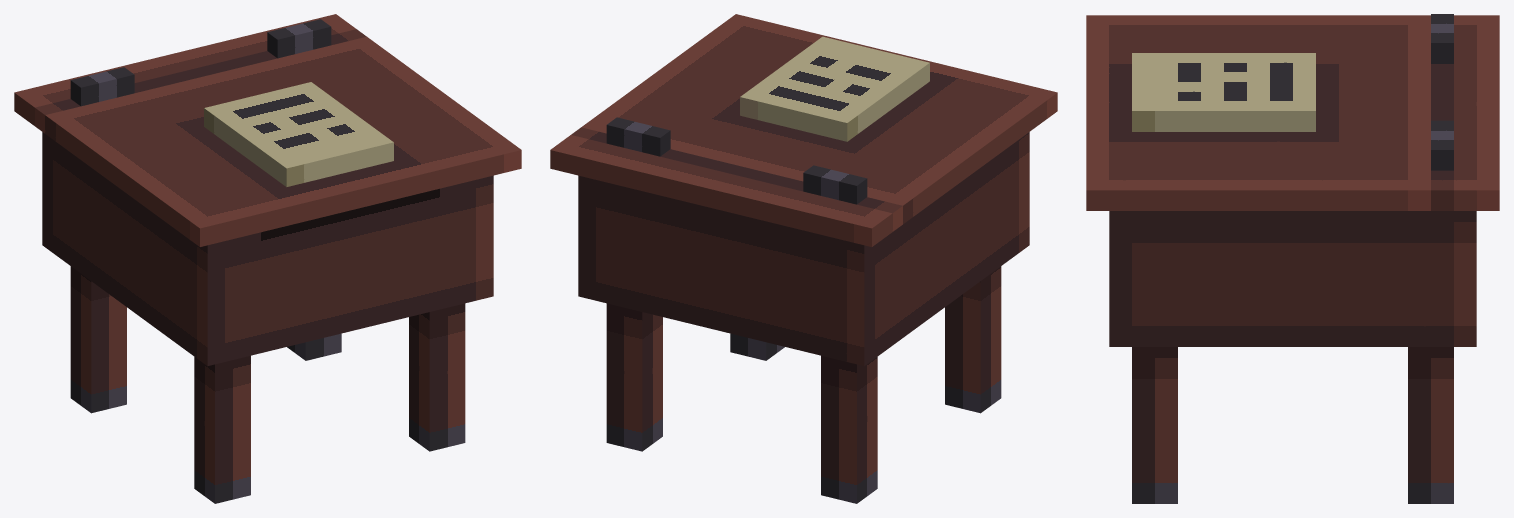
The model's file is student_deskao.fezao.glb.
The picture shows the model from 3 angles, left to right: view 1: azimuth 30°, elevation 25°; view 2: azimuth 150°, elevation 25°; view 3: azimuth 270°, elevation 25°; orthographic projection. The views are drawn at different scales.
Visible parts, largest first — view 1: STUDENT_DESKAO; view 2: STUDENT_DESKAO; view 3: STUDENT_DESKAO.
Boxes of the visible parts, x1,y1,x2,y2 form: STUDENT_DESKAO: [14, 14, 521, 503]; STUDENT_DESKAO: [550, 14, 1057, 503]; STUDENT_DESKAO: [1086, 14, 1499, 503].
Bounding box in the file's own units: 1.12 × 1.06 × 1.12.
1 material, 1 textured.
